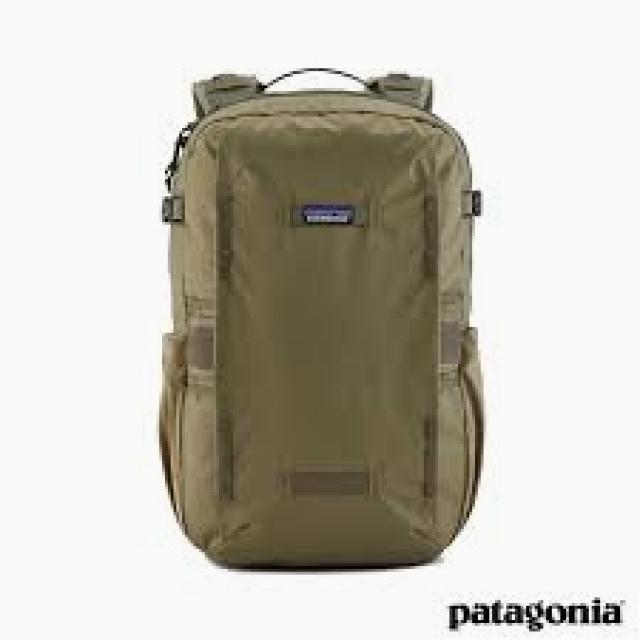backpack: (158, 66, 485, 570)
